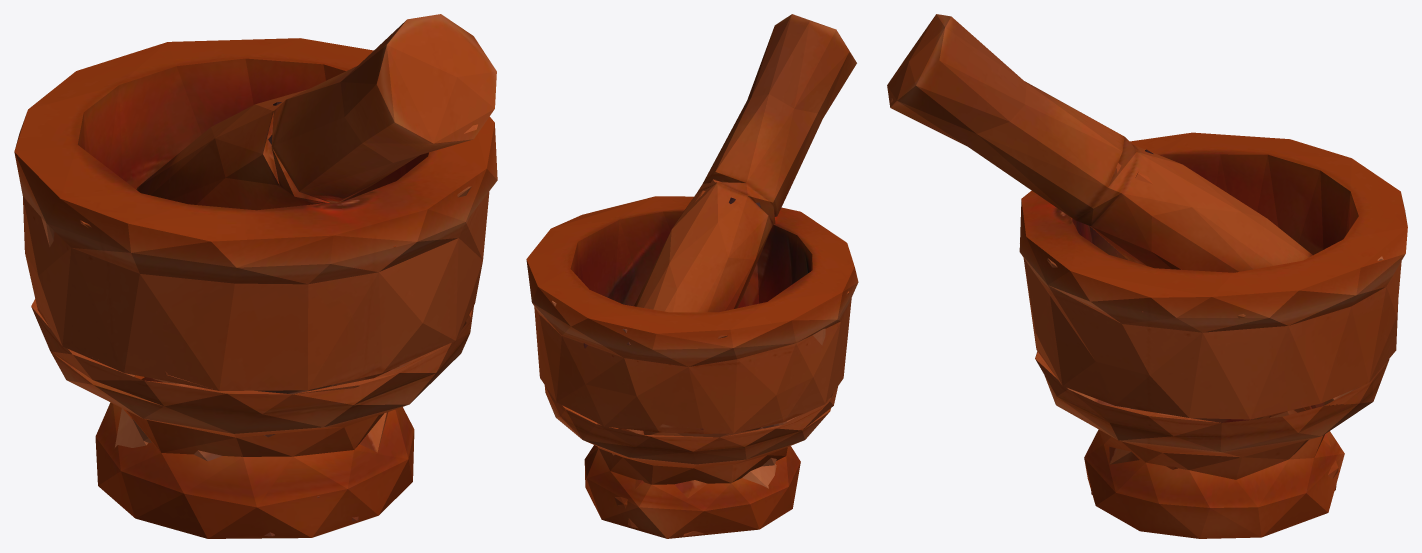
File: WoodenMortalPestle.fbx
3 views of the same model, side by side, from view 1: azimuth 30°, elevation 25°; view 2: azimuth 150°, elevation 25°; view 3: azimuth 270°, elevation 25° (orthographic). The views are drawn at different scales.
Visible parts, largest first — view 1: WoodenMortalPestle; view 2: WoodenMortalPestle; view 3: WoodenMortalPestle.
Boxes of the visible parts, <box> form: WoodenMortalPestle: <box>14,14,497,538</box>; WoodenMortalPestle: <box>526,14,858,538</box>; WoodenMortalPestle: <box>887,14,1407,538</box>.
Bounding box in the file's own units: 22.86 × 30.15 × 30.37.
